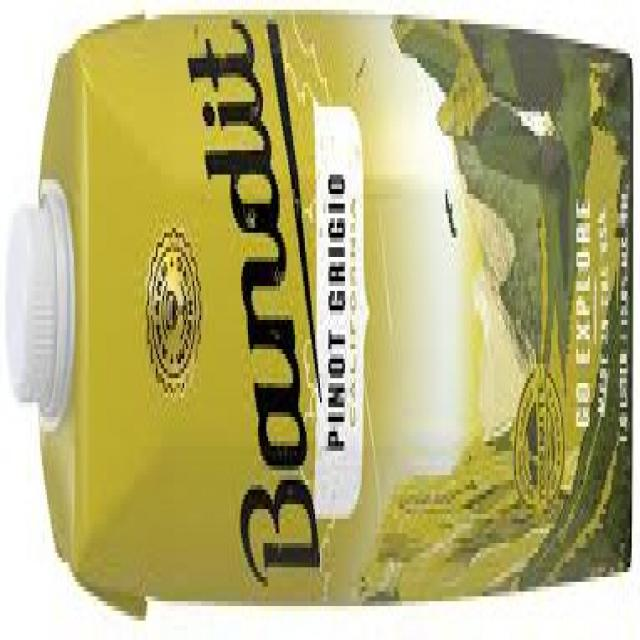non_white_jug: (0, 0, 631, 596)
